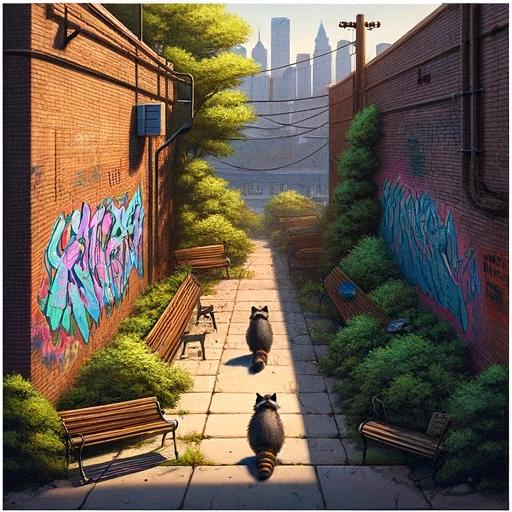raccoon: (242, 388, 290, 486), (241, 299, 278, 375)
